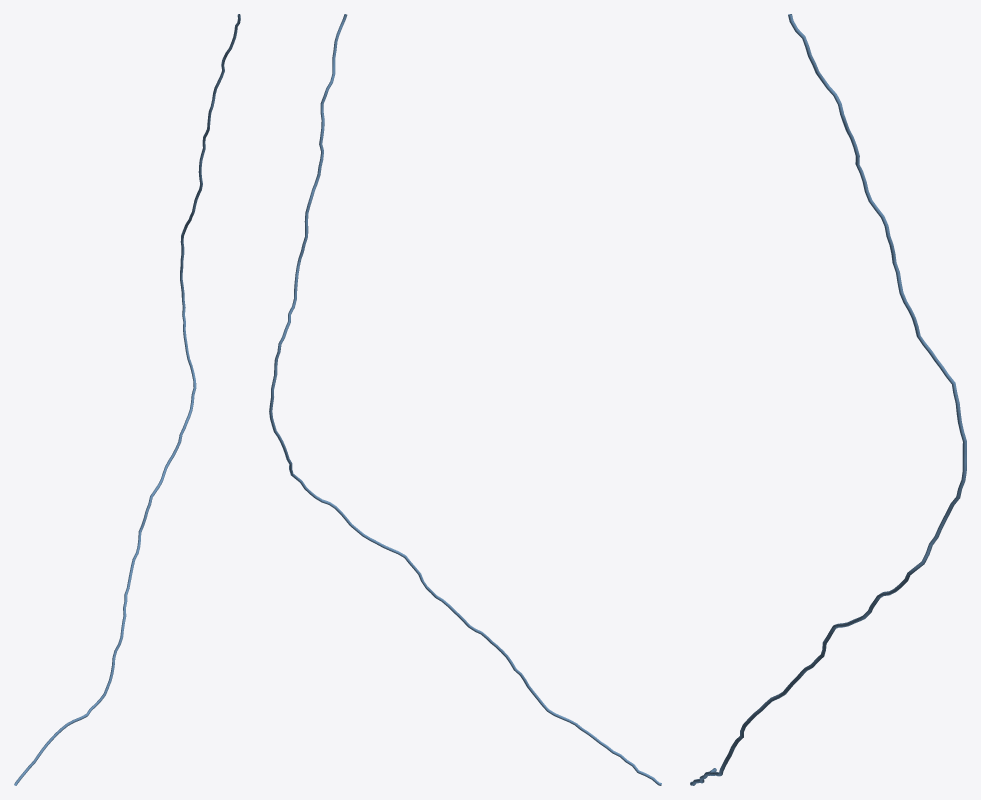
File: sweep120.fbx
The picture shows the model from 3 angles, left to right: view 1: azimuth 30°, elevation 25°; view 2: azimuth 150°, elevation 25°; view 3: azimuth 270°, elevation 25°; orthographic projection. The views are drawn at different scales.
Parts seen in each view (by area): view 1: sweep120; view 2: sweep120; view 3: sweep120.
Part boxes in pixels (<box>): sweep120: <box>14,14,240,785</box>; sweep120: <box>269,14,661,785</box>; sweep120: <box>690,14,966,785</box>.
Size of the model in its own units: 2.05 by 4.98 by 1.32.
